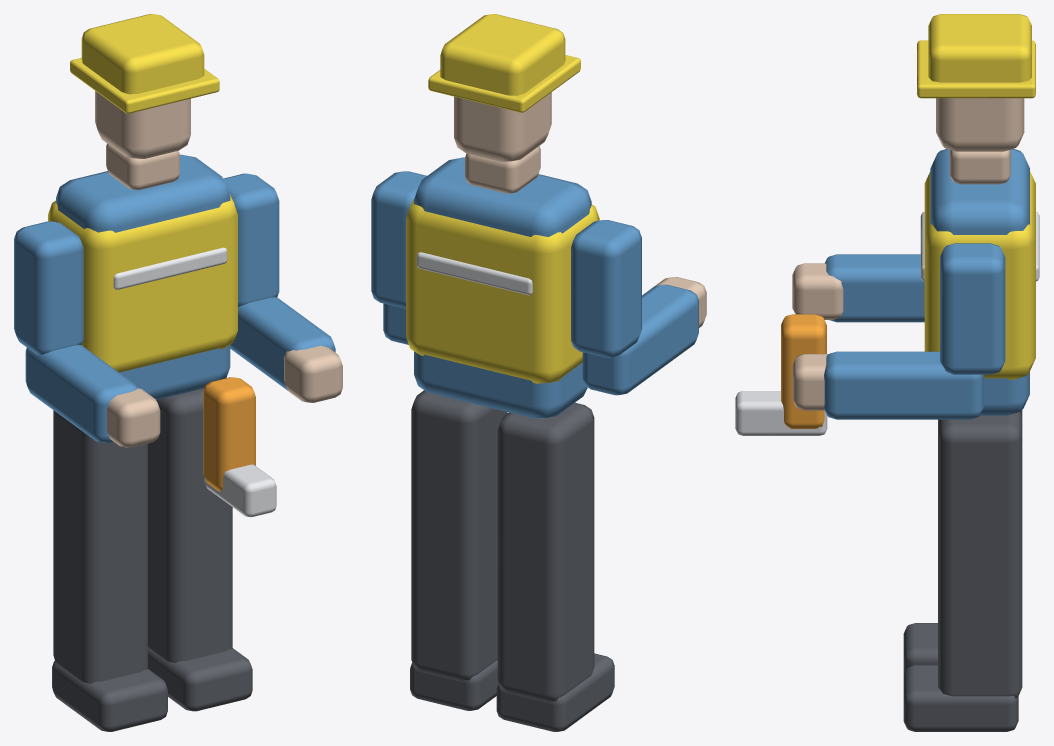
The model's file is line-worker.glb.
3 views of the same model, side by side, from view 1: azimuth 30°, elevation 25°; view 2: azimuth 150°, elevation 25°; view 3: azimuth 270°, elevation 25° (orthographic).
Parts seen in each view (by area): view 1: line-worker-with-torque-tool; view 2: line-worker-with-torque-tool; view 3: line-worker-with-torque-tool.
Part boxes in pixels (left/top/right/bottom): line-worker-with-torque-tool: left=14, top=14, right=342, bottom=731; line-worker-with-torque-tool: left=371, top=14, right=706, bottom=731; line-worker-with-torque-tool: left=735, top=14, right=1039, bottom=731.
Size of the model in its own units: 0.75 by 1.92 by 0.7938.
